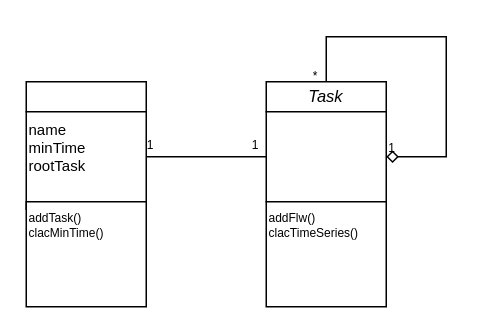
Some shapes in this 485 by 333 pixel diagram are drawn without their labels. Each missing label, with the centre of its shape:
name time: (325,156)
Project: (85,96)
